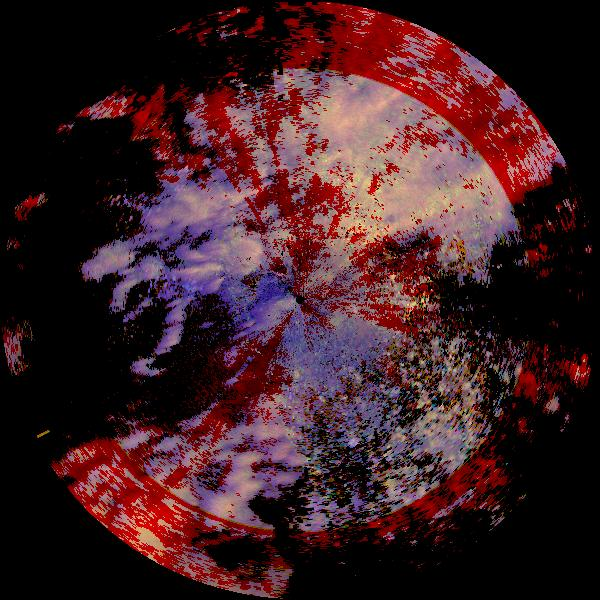roost: (292, 369, 304, 381), (348, 303, 360, 315), (324, 342, 330, 348)
